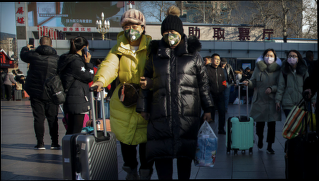with_mask: (163, 28, 182, 47), (123, 24, 143, 42), (263, 53, 275, 65), (287, 54, 299, 66)
without_mask: (212, 57, 221, 67)
